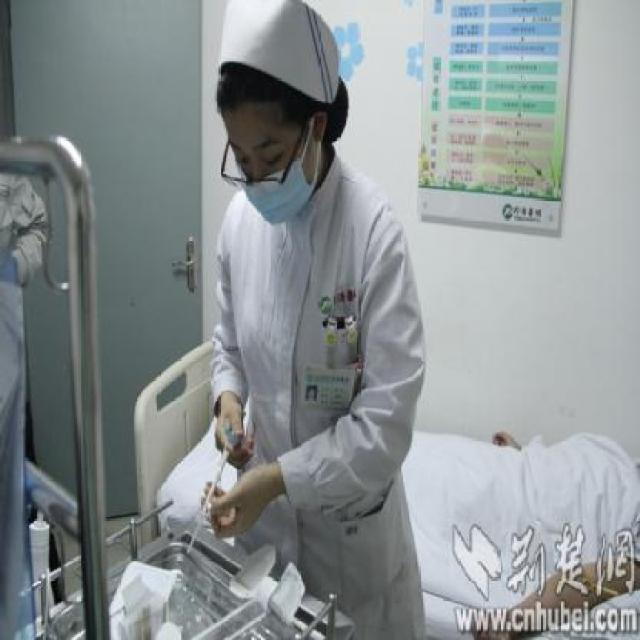face_mask: (224, 114, 318, 217)
glasses: (212, 166, 291, 194)
hand_noglove: (200, 466, 268, 539), (214, 398, 254, 469), (491, 429, 520, 451)
head_nohelmet: (198, 58, 318, 131)
person: (72, 40, 440, 640)
